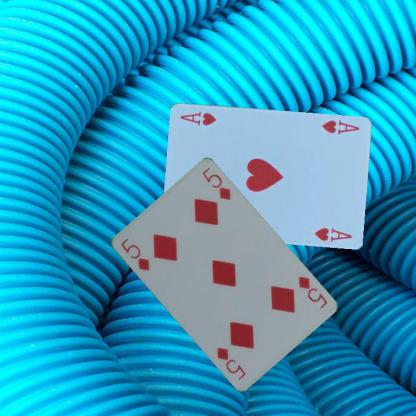5d: (117, 235, 151, 272), (294, 274, 328, 310)
Ah: (319, 118, 360, 136)
